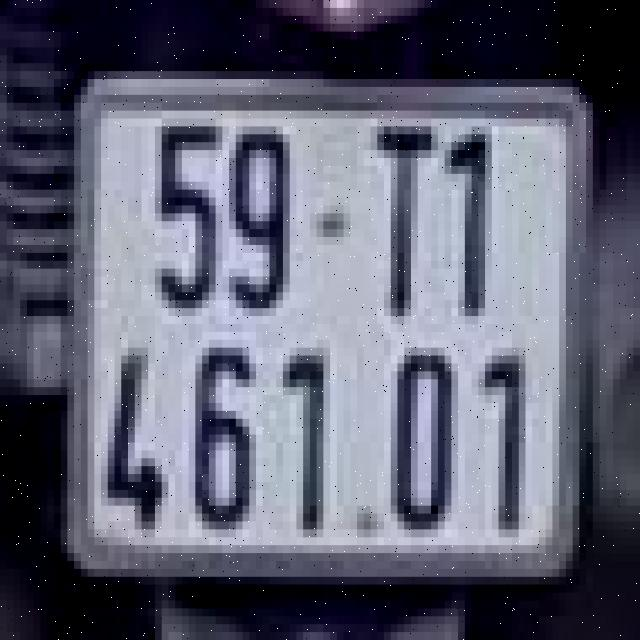0: (381, 328, 462, 533)
1: (273, 324, 340, 553), (475, 340, 542, 537), (438, 126, 498, 324)
4: (91, 328, 178, 525)
5: (145, 111, 226, 316)
6: (185, 328, 266, 541)
9: (226, 111, 300, 316)
T: (350, 107, 438, 328)
